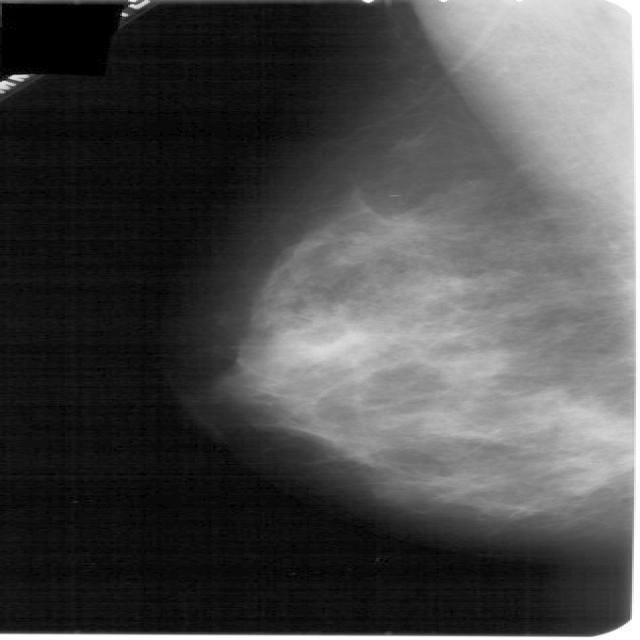tumour: (347, 214, 431, 252)
